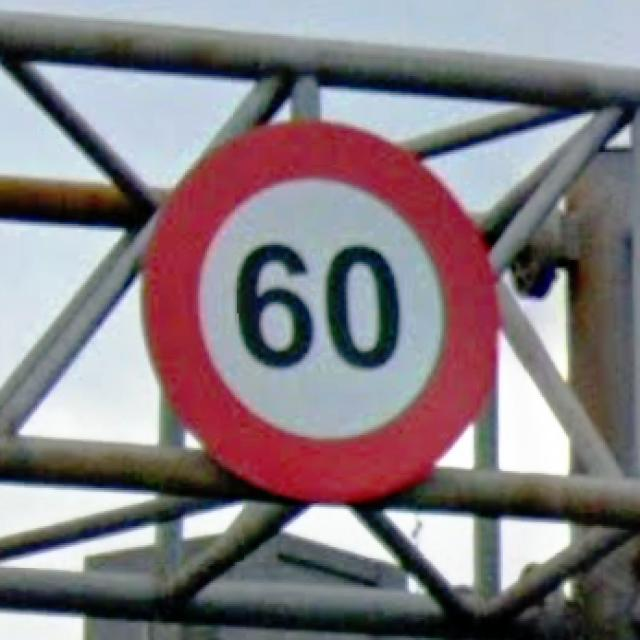max60: (137, 114, 503, 505)
